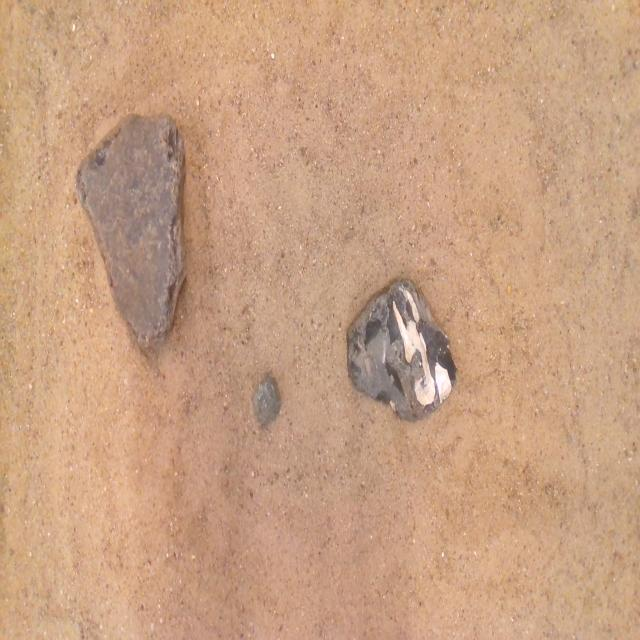rock: (76, 114, 185, 347), (348, 281, 455, 421), (252, 376, 281, 427)
